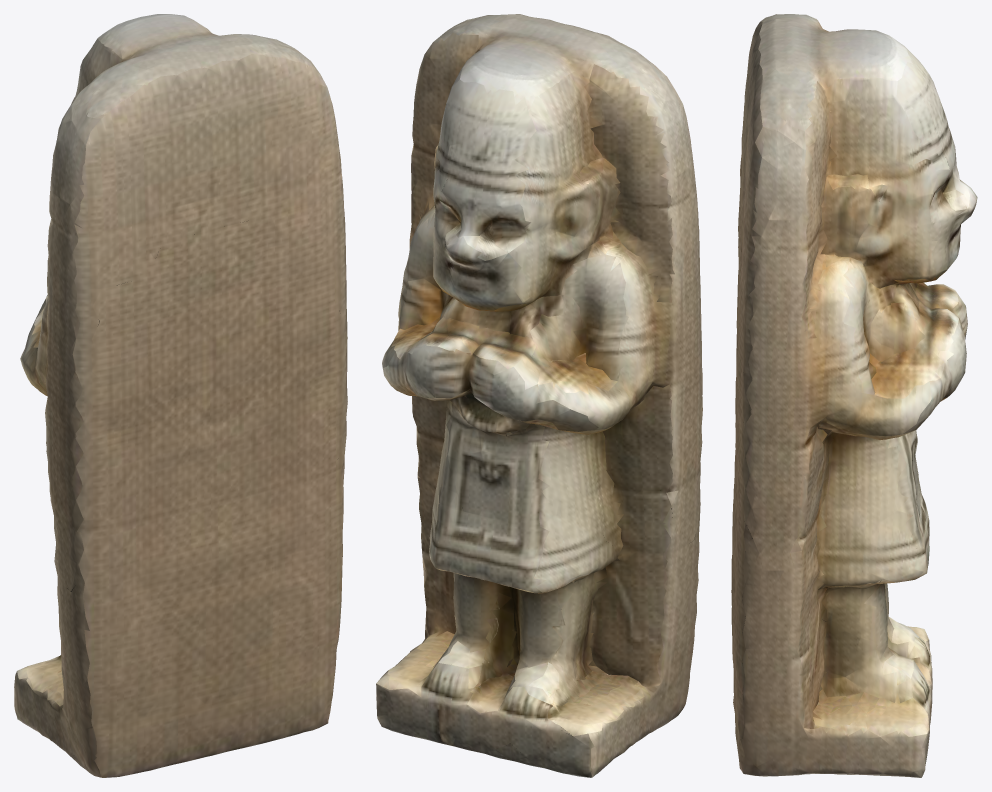
The model's file is fc0bbc95-d032-4b49-a9f2-e5a772571b7d.glb.
The picture shows the model from 3 angles, left to right: view 1: azimuth 30°, elevation 25°; view 2: azimuth 150°, elevation 25°; view 3: azimuth 270°, elevation 25°; orthographic projection. The views are drawn at different scales.
Parts seen in each view (by area): view 1: world; view 2: world; view 3: world.
Boxes of the visible parts, x1,y1,x2,y2 form: world: [14, 14, 347, 777]; world: [376, 14, 702, 777]; world: [731, 14, 977, 777].
Bounding box in the file's own units: 0.3966 × 0.9422 × 0.3039.
Materials: 1 (1 with a texture image).
